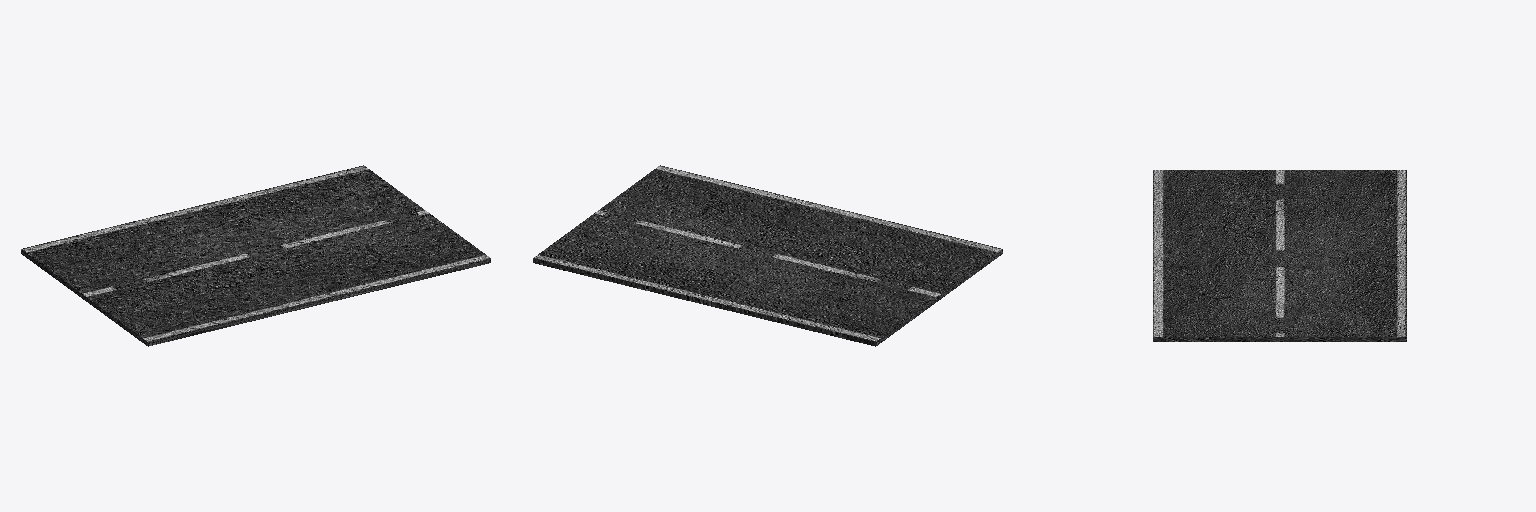
3 renders of one model, left to right at view 1: azimuth 30°, elevation 25°; view 2: azimuth 150°, elevation 25°; view 3: azimuth 270°, elevation 25°, orthographic.
Visible parts, largest first — view 1: Объект_Куб; view 2: Объект_Куб; view 3: Объект_Куб.
Boxes of the visible parts, x1=… form: Объект_Куб: x1=21, y1=165, x2=490, y2=346; Объект_Куб: x1=533, y1=165, x2=1002, y2=346; Объект_Куб: x1=1153, y1=170, x2=1406, y2=341.
Size of the model in its own units: 659 by 8.43 by 423.
1 materials, 1 textured.